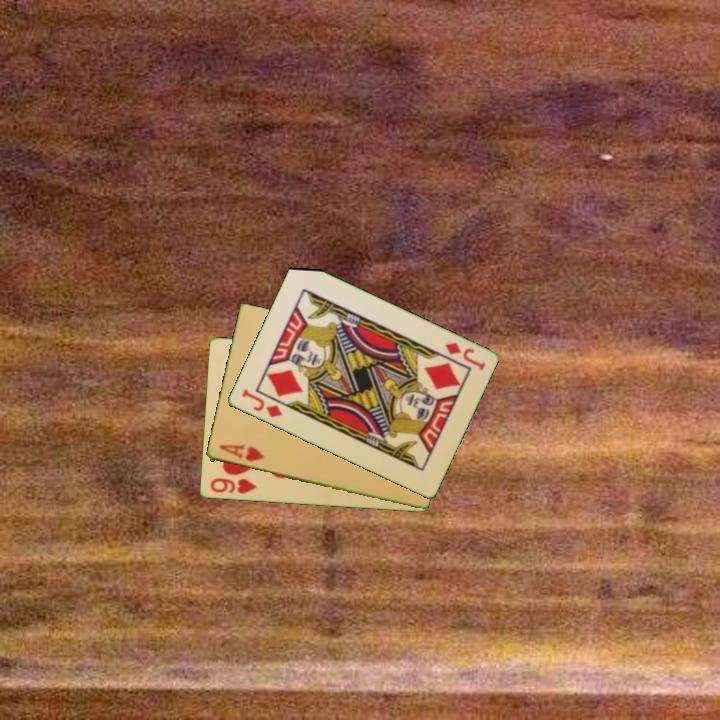9h: (207, 475, 259, 497)
Ah: (215, 441, 267, 465)
Jd: (238, 385, 285, 421), (441, 339, 488, 373)
